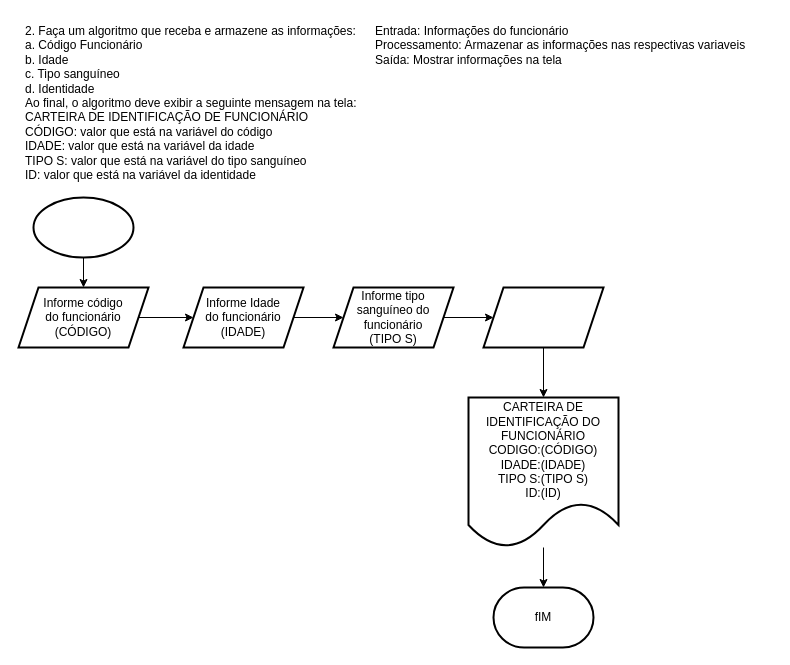
This 790x665 diagram has some shape labels left out. The shapes that lost their labels are listed below. From the top down, each one's box as (x1, y1, x2, y2) in pixels, then its label:
(32, 196, 134, 258): Início
(482, 286, 604, 348): Informe a Identidade do funcionário (ID)
